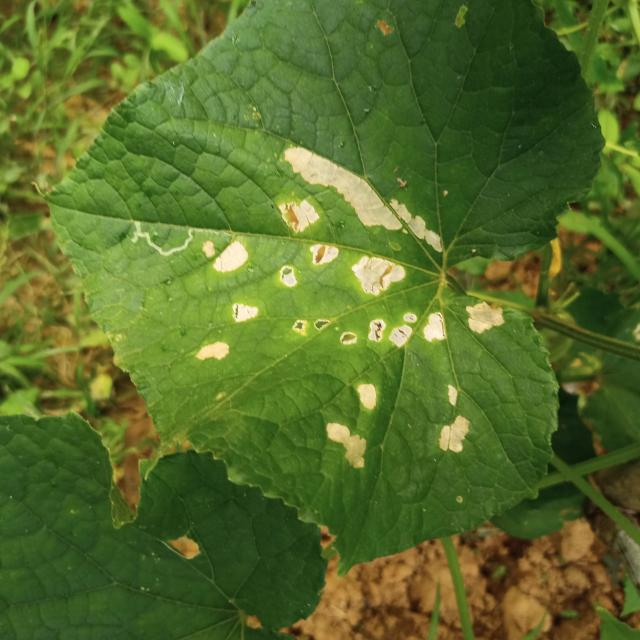disease_cucumber: (273, 144, 450, 301), (287, 299, 507, 363), (199, 235, 260, 368), (324, 376, 382, 476), (436, 382, 474, 463)
